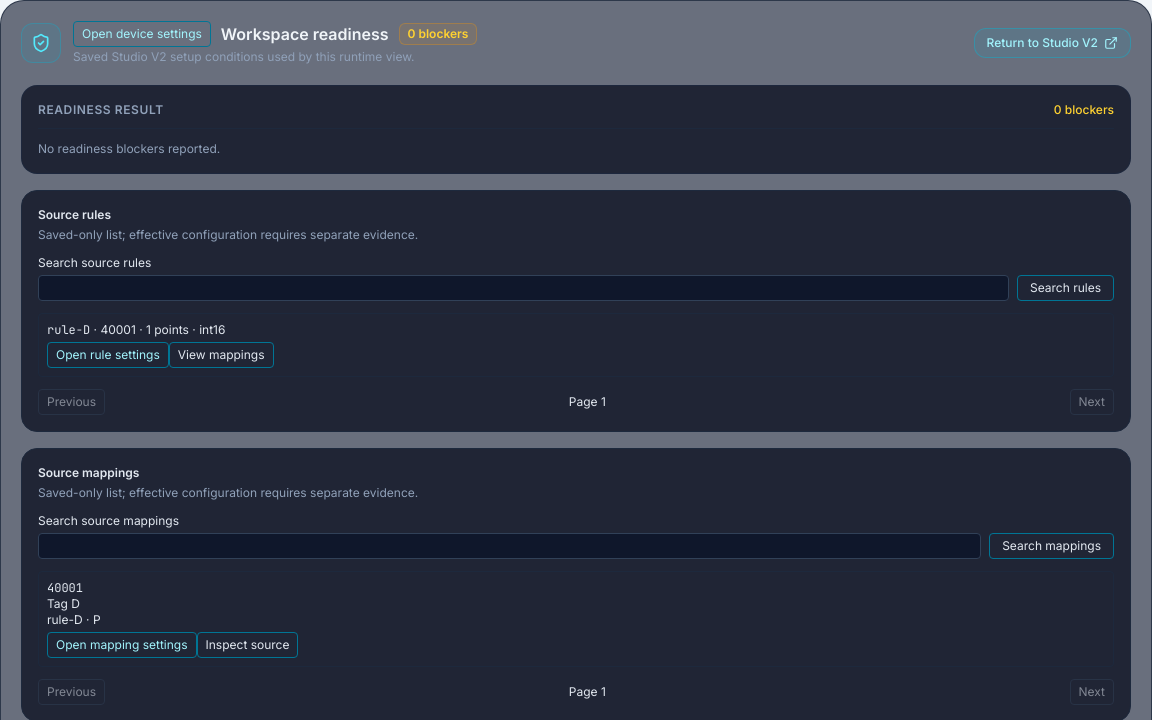
Test: single selected-device source inspection › shows unknown polling and unsupported transforms without inventing parameters
Click the button with aria-label "Inspect source 40001" at (248, 645), box [196,632,298,658]
(page scrolled)
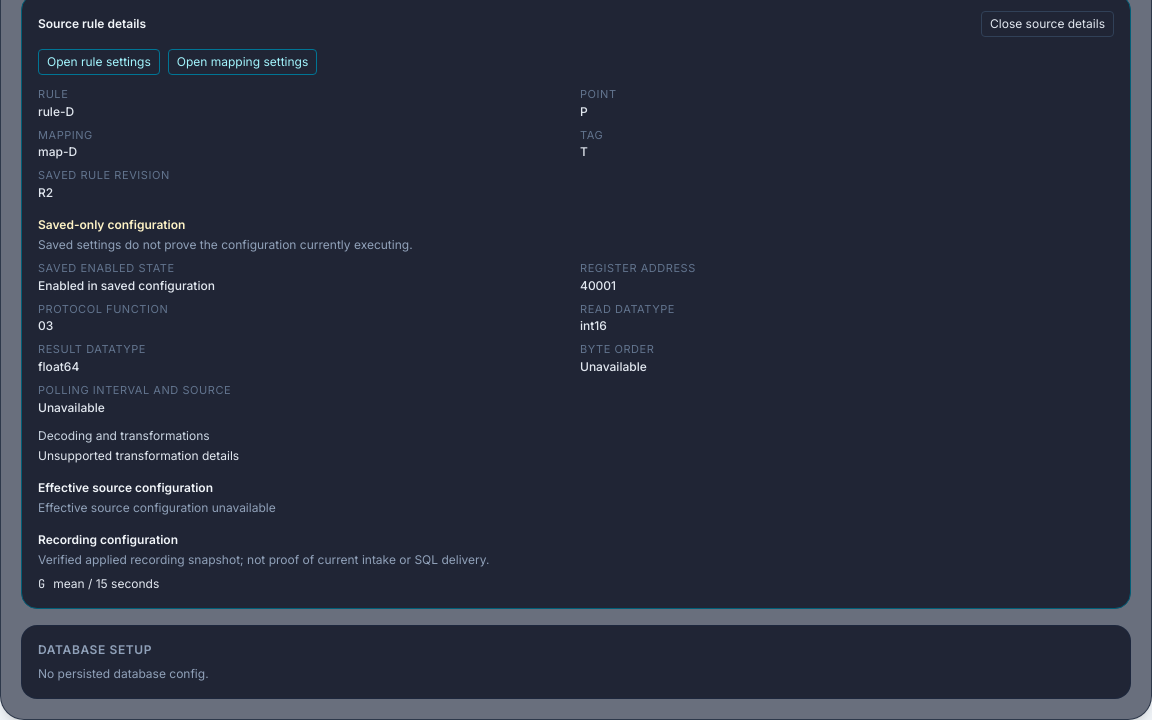
Now the list item "Unsupported transformation details" is shown, box [38,448,239,463]
Now the text "Effective source configuration unavailable" is shown, box [38,500,276,515]
